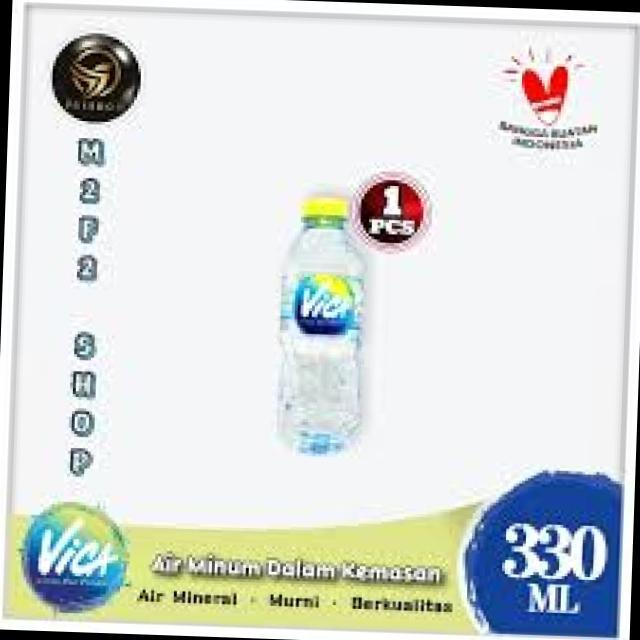good: (242, 168, 398, 466)
